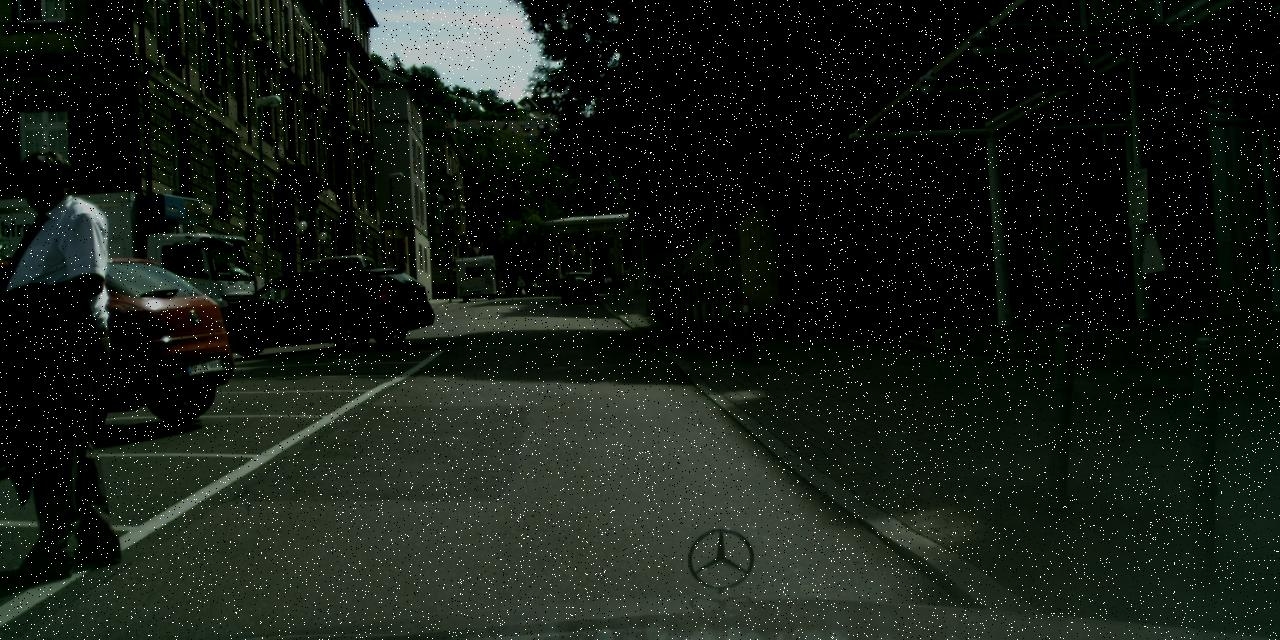ped: (0, 150, 147, 571), (516, 275, 524, 298)
